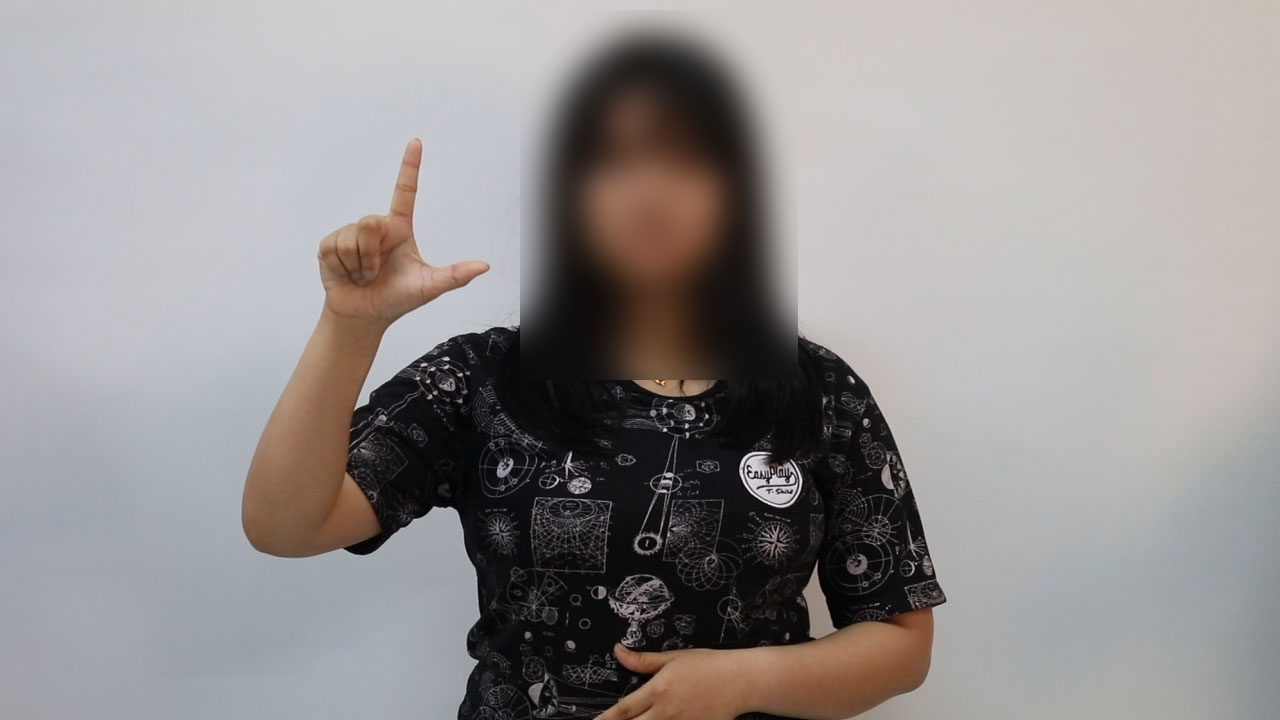lor: (308, 126, 503, 332)
